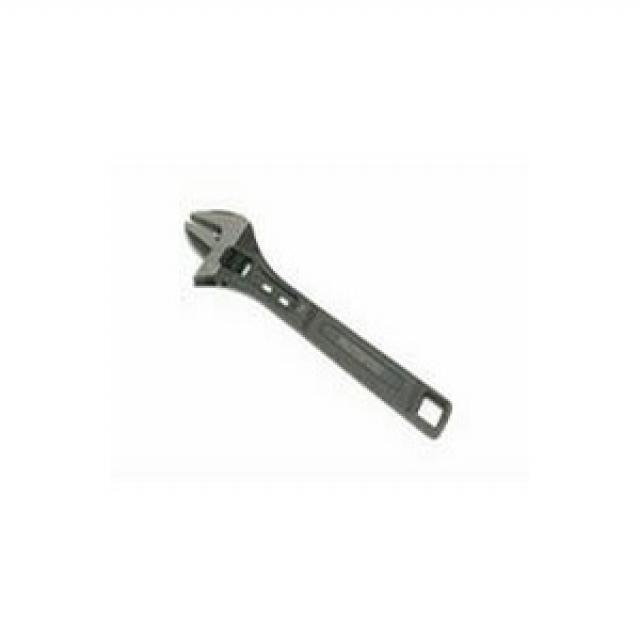wrench: (178, 203, 458, 448)
